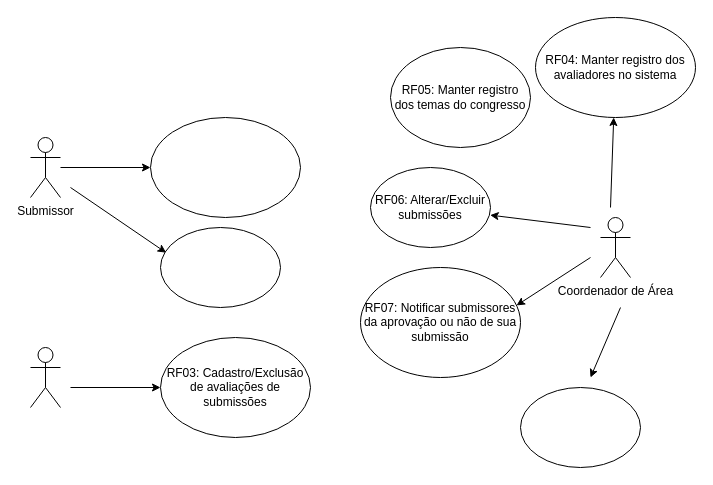
Image size: 713x485. Some labels were removed from this diagram. Each missing label, with the box of its shape:
Avaliador: (30, 346, 60, 408)
RF01: Submeter artigo/minicurso/palestra: (150, 116, 300, 218)
RF02: Realizar cadastro: (160, 226, 280, 308)
RF08: Emitir relatório das avaliações: (520, 386, 640, 468)
